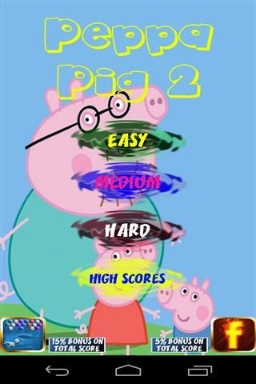Peppa: (73, 235, 160, 357)
